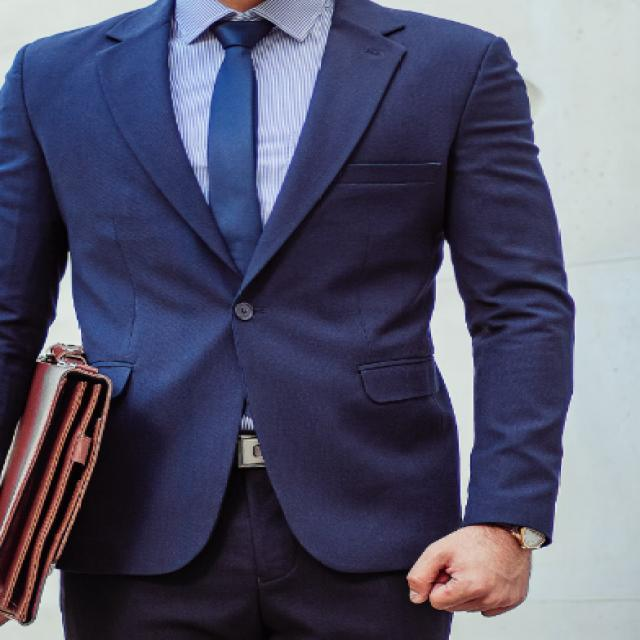Watch: (485, 522, 560, 553)
